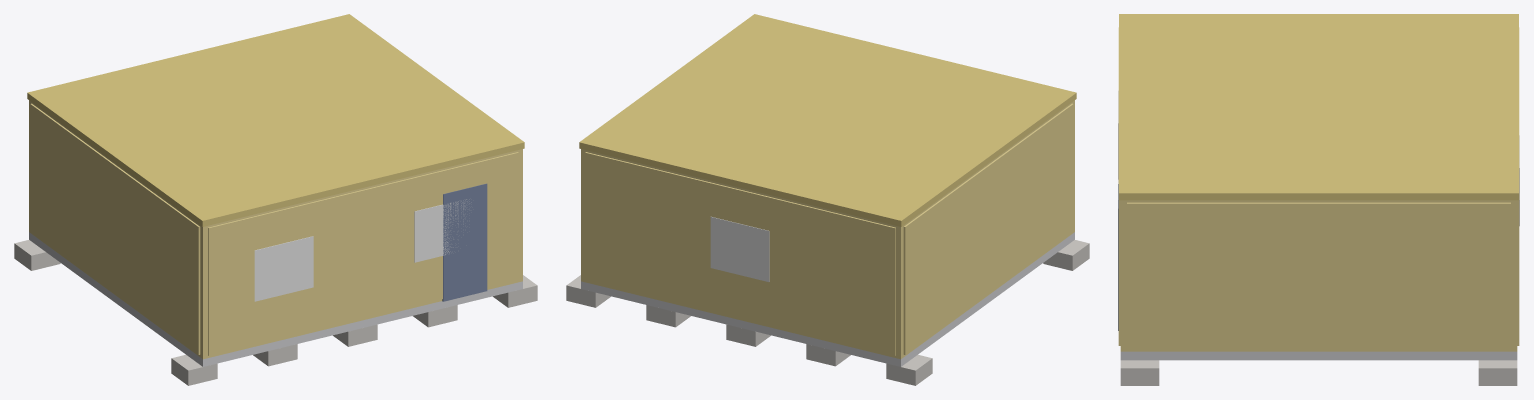
Rendered from Studio-20-Base-DesertYellow-LOD1.glb.
3 views of the same model, side by side, from view 1: azimuth 30°, elevation 25°; view 2: azimuth 150°, elevation 25°; view 3: azimuth 270°, elevation 25° (orthographic). The views are drawn at different scales.
Parts seen in each view (by area): view 1: RoofMain, ExteriorPanelsStandard, WindowsStandard, EntryDoor, FoundationBlocks, BaseFrame, ExteriorShell; view 2: ExteriorPanelsStandard, RoofMain, FoundationBlocks, BaseFrame, ExteriorShell, WindowsStandard; view 3: RoofMain, ExteriorPanelsStandard, ExteriorShell, BaseFrame, FoundationBlocks.
Part boxes in pixels (<box>): RoofMain: <box>27,14,524,226</box>; ExteriorPanelsStandard: <box>30,103,518,355</box>; WindowsStandard: <box>254,199,471,301</box>; EntryDoor: <box>442,183,487,301</box>; FoundationBlocks: <box>14,240,537,385</box>; BaseFrame: <box>29,232,522,366</box>; ExteriorShell: <box>29,100,522,359</box>; ExteriorPanelsStandard: <box>585,103,1073,355</box>; RoofMain: <box>579,14,1076,226</box>; FoundationBlocks: <box>566,240,1089,385</box>; BaseFrame: <box>581,232,1074,366</box>; ExteriorShell: <box>581,100,1074,359</box>; WindowsStandard: <box>710,216,769,281</box>; RoofMain: <box>1119,14,1518,200</box>; ExteriorPanelsStandard: <box>1118,27,1519,349</box>; ExteriorShell: <box>1120,200,1517,351</box>; BaseFrame: <box>1120,351,1517,360</box>; FoundationBlocks: <box>1120,360,1517,385</box>.
Size of the model in its own units: 7.14 by 3.17 by 6.24.
